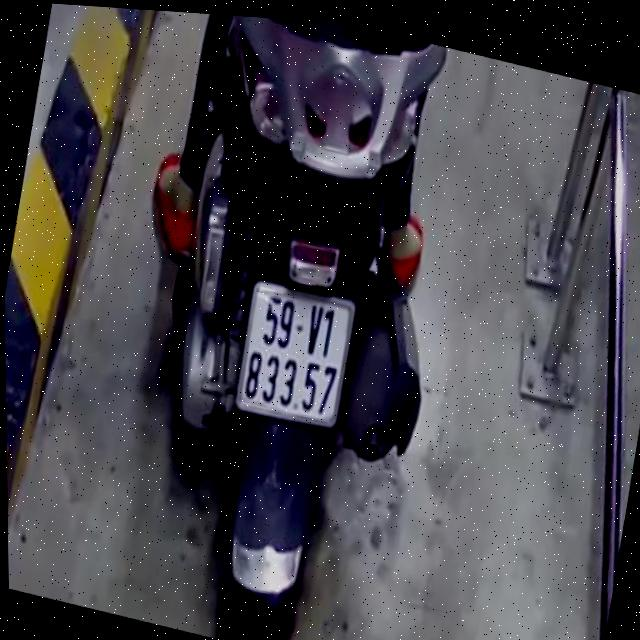motorcycle: (93, 6, 496, 640)
plate: (222, 270, 364, 442)
